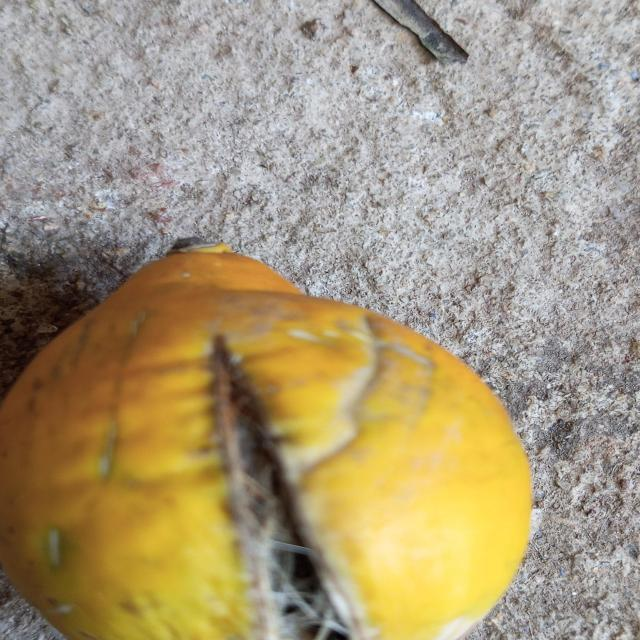damaged: (0, 245, 534, 640)
